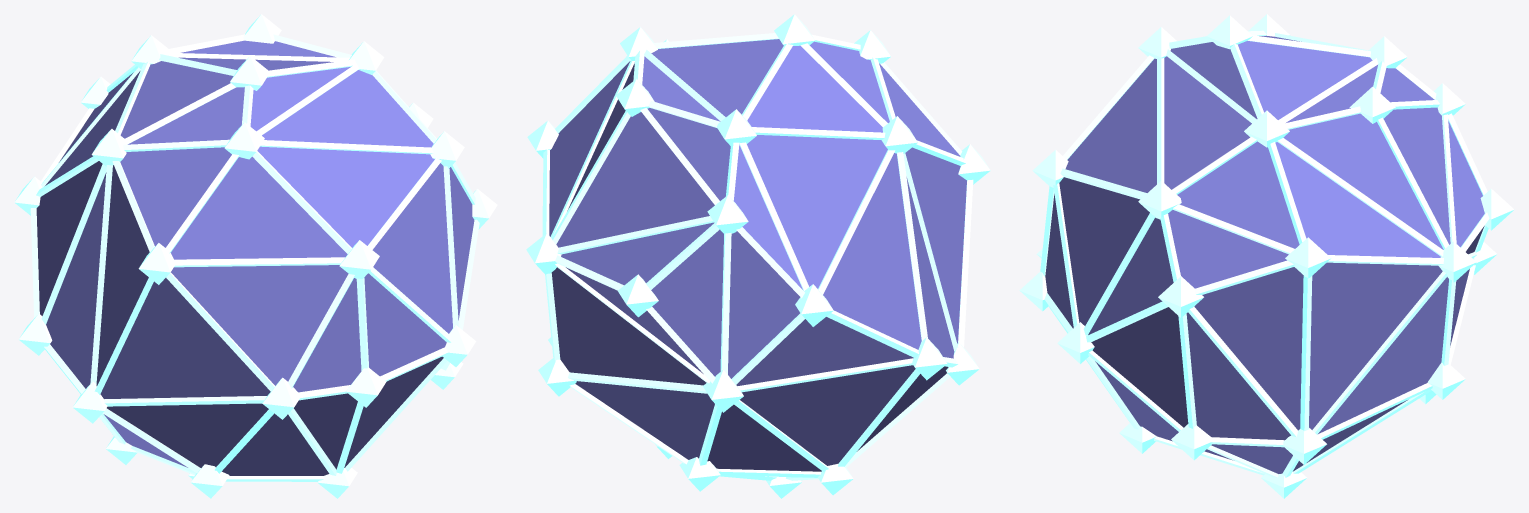
File: lattice shape_opaque.fbx
3 views of the same model, side by side, from view 1: azimuth 30°, elevation 25°; view 2: azimuth 150°, elevation 25°; view 3: azimuth 270°, elevation 25° (orthographic). The views are drawn at different scales.
Parts seen in each view (by area): view 1: Sphere001; view 2: Sphere001; view 3: Sphere001.
Part boxes in pixels (bbox=[...]): Sphere001: bbox=[14, 14, 497, 498]; Sphere001: bbox=[526, 14, 990, 498]; Sphere001: bbox=[1019, 14, 1514, 498].
Size of the model in its own units: 21.37 by 22.34 by 22.34.
